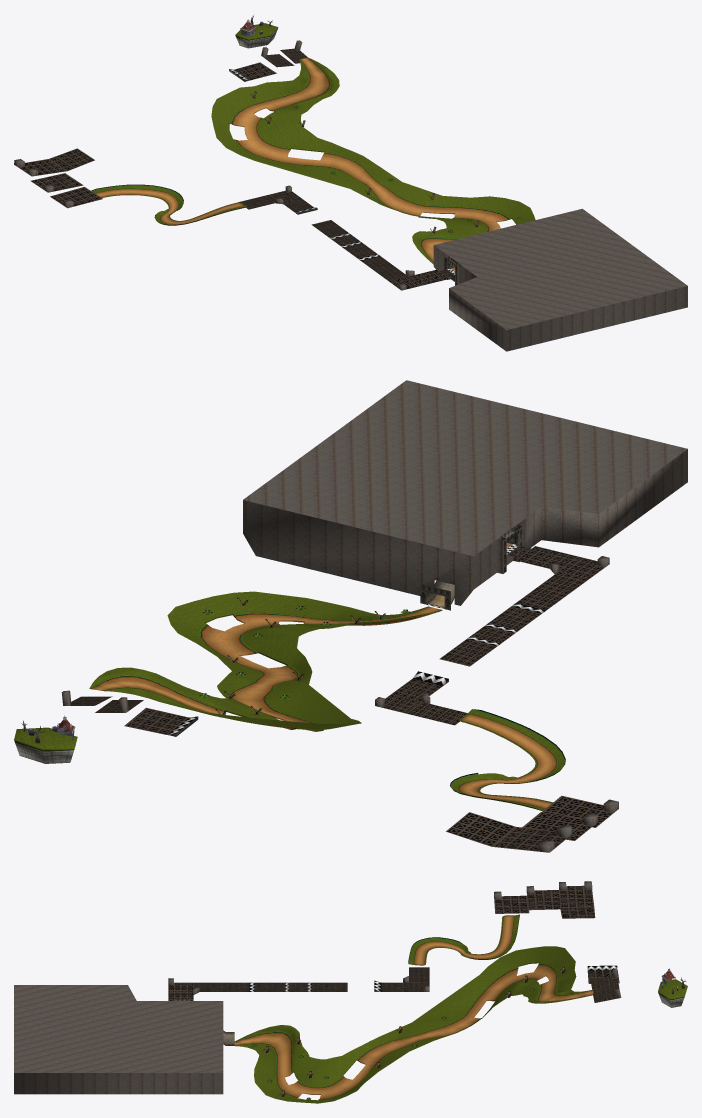
3 renders of one model, top to bottom at view 1: azimuth 30°, elevation 25°; view 2: azimuth 150°, elevation 25°; view 3: azimuth 270°, elevation 25°, orthographic. The views are drawn at different scales.
Parts seen in each view (by area): view 1: iron_wall6Mesh, grassMesh, dirtroadMesh, grid_roadMesh; view 2: iron_wall6Mesh, grassMesh, grid_roadMesh, dirtroadMesh, boost06Mesh, wall2Mesh, floating_rockMesh; view 3: iron_wall6Mesh, grassMesh, dirtroadMesh, grid_roadMesh, boost06Mesh, bushMesh.
Boxes of the visible parts, x1,y1,x2,y2 form: iron_wall6Mesh: (14,40,687,351); grassMesh: (91,23,535,264); dirtroadMesh: (94,58,511,270); grid_roadMesh: (18,48,454,289); iron_wall6Mesh: (61,380,687,852); grassMesh: (14,591,564,810); grid_roadMesh: (69,545,613,851); dirtroadMesh: (89,542,558,809); boost06Mesh: (167,603,545,734); wall2Mesh: (420,525,522,610); floating_rockMesh: (14,740,74,763); iron_wall6Mesh: (14,881,621,1094); grassMesh: (235,914,687,1103); dirtroadMesh: (234,915,593,1099); grid_roadMesh: (168,885,619,1002); boost06Mesh: (249,965,617,991); bushMesh: (252,966,565,1100).
Bounding box in the file's own units: 96912 × 22650 × 148666.
Materials: 23 (23 with a texture image).
